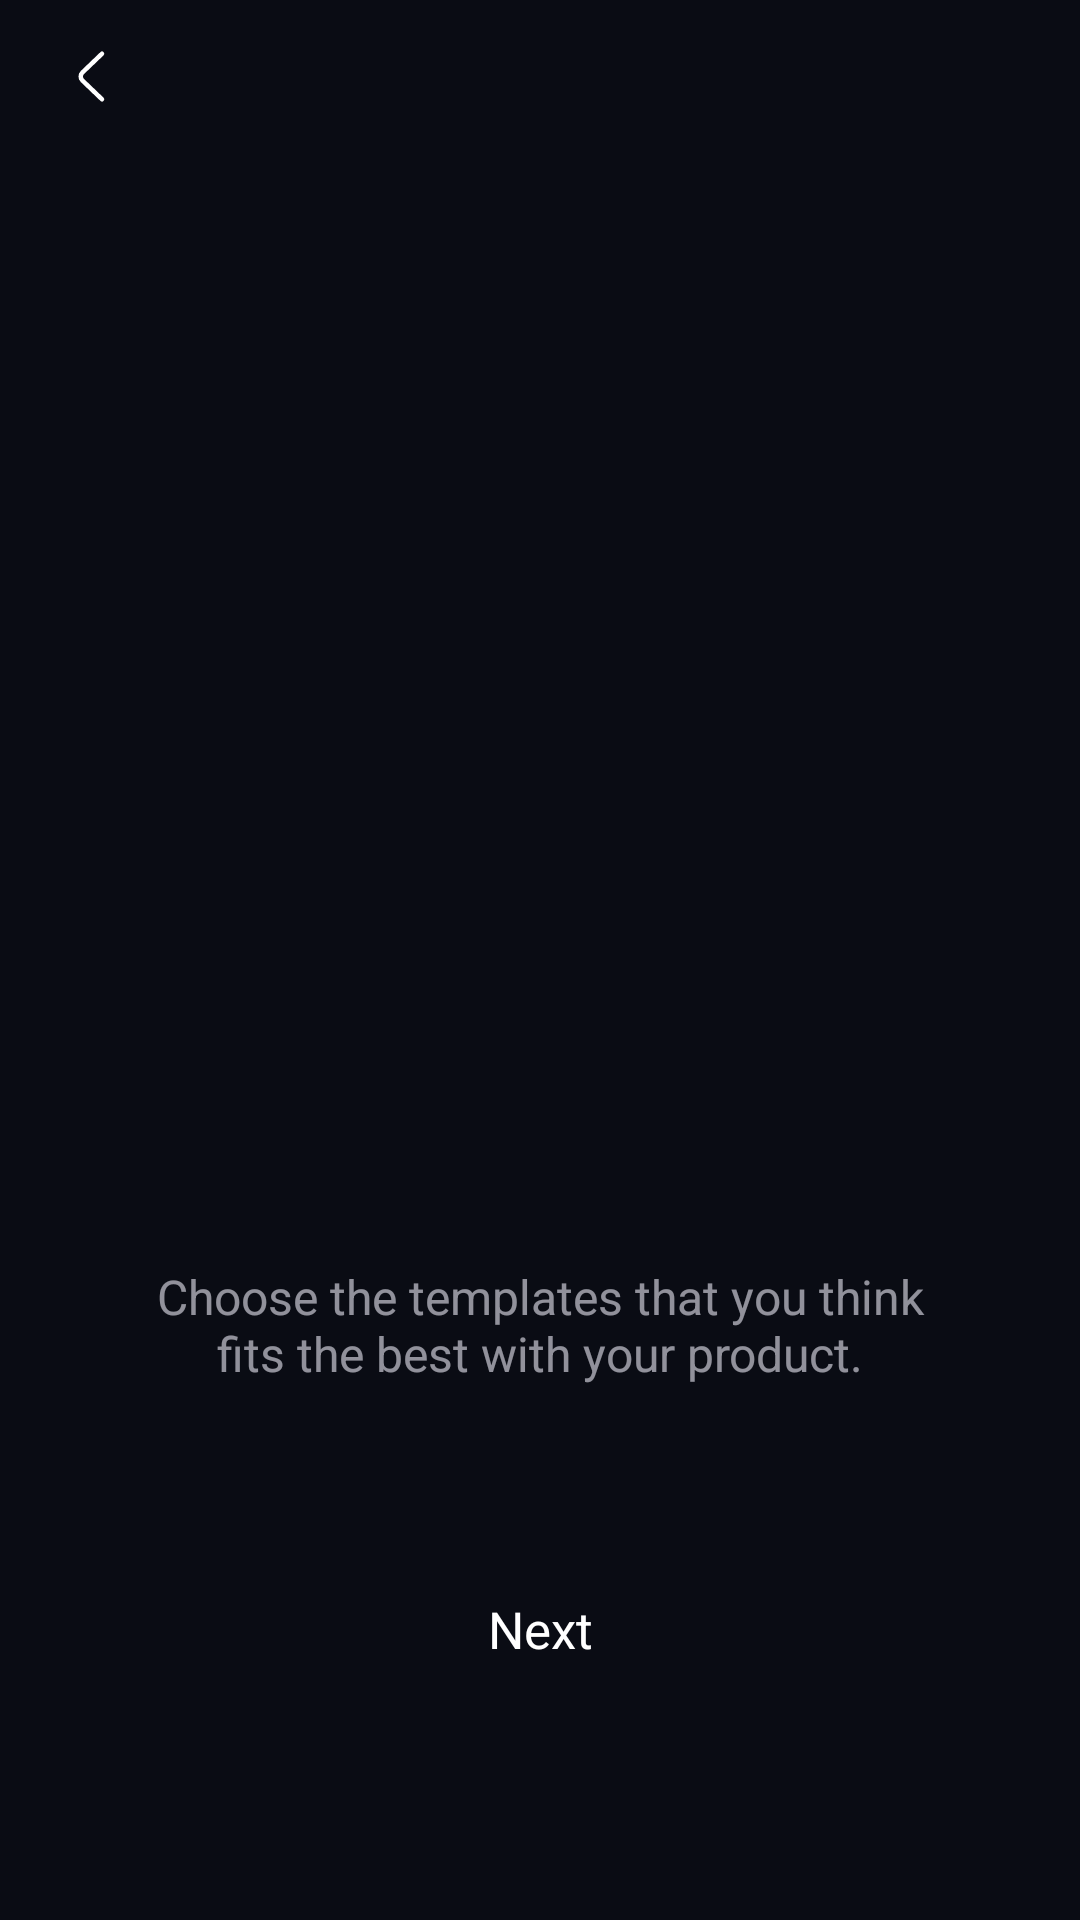

Where to tap for icons on this 1080w x 1920h app screen, as (x=x, y=y):
back arrow: (x=91, y=76)
